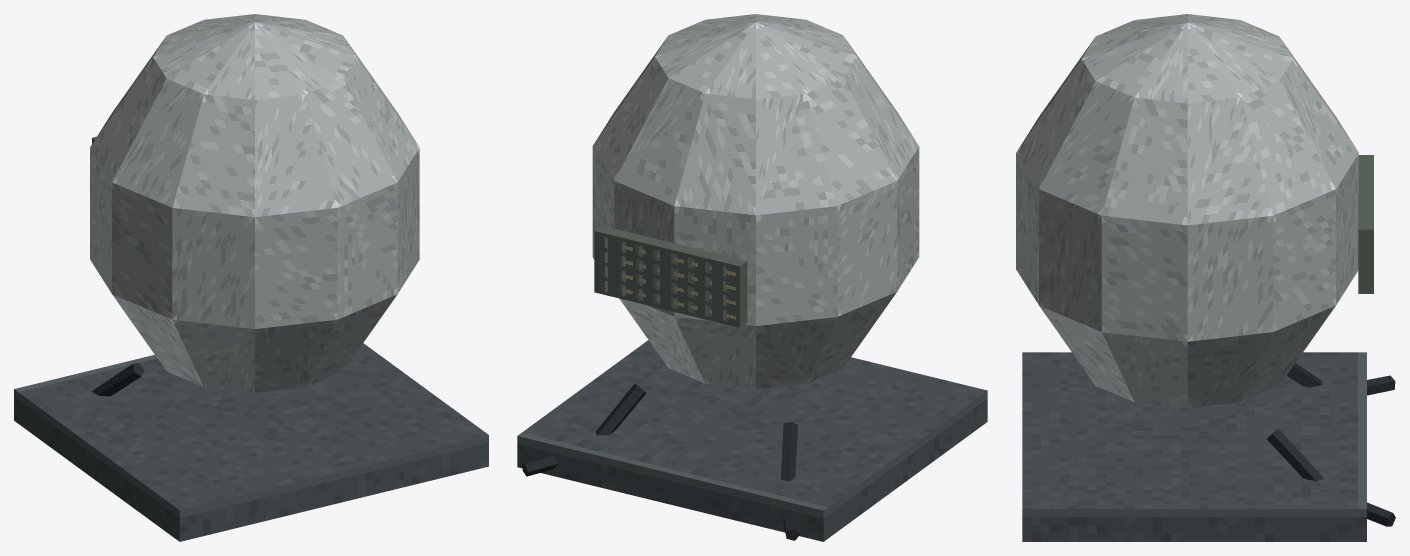
The model's file is f_exodii_generator_2.glb.
The picture shows the model from 3 angles, left to right: view 1: azimuth 30°, elevation 25°; view 2: azimuth 150°, elevation 25°; view 3: azimuth 270°, elevation 25°; orthographic projection. The views are drawn at different scales.
Visible parts, largest first — view 1: block_steel-plated-power-sphere, block_industrial-power-footing, block_grounded-generator-cable-1; view 2: block_steel-plated-power-sphere, block_industrial-power-footing, block_bolted-inscribed-lead-plate, block_grounded-generator-cable-1 (×2); view 3: block_steel-plated-power-sphere, block_industrial-power-footing, block_bolted-inscribed-lead-plate, block_grounded-generator-cable-1 (×2), block_grounded-generator-cable-2.
Boxes of the visible parts, <box> form: block_steel-plated-power-sphere: <box>90,14,419,392</box>; block_industrial-power-footing: <box>14,343,488,541</box>; block_grounded-generator-cable-1: <box>92,363,144,396</box>; block_steel-plated-power-sphere: <box>592,14,919,389</box>; block_industrial-power-footing: <box>517,340,987,541</box>; block_bolted-inscribed-lead-plate: <box>594,225,747,327</box>; block_grounded-generator-cable-1 (×2): <box>595,384,798,481</box>; block_steel-plated-power-sphere: <box>1016,14,1358,408</box>; block_industrial-power-footing: <box>1022,352,1366,541</box>; block_bolted-inscribed-lead-plate: <box>1358,155,1373,293</box>; block_grounded-generator-cable-1 (×2): <box>1267,363,1324,481</box>; block_grounded-generator-cable-2: <box>1367,502,1395,526</box>.
Bounding box in the file's own units: 0.84 × 1.1 × 0.8594.
Materials: 2 (2 with a texture image).
